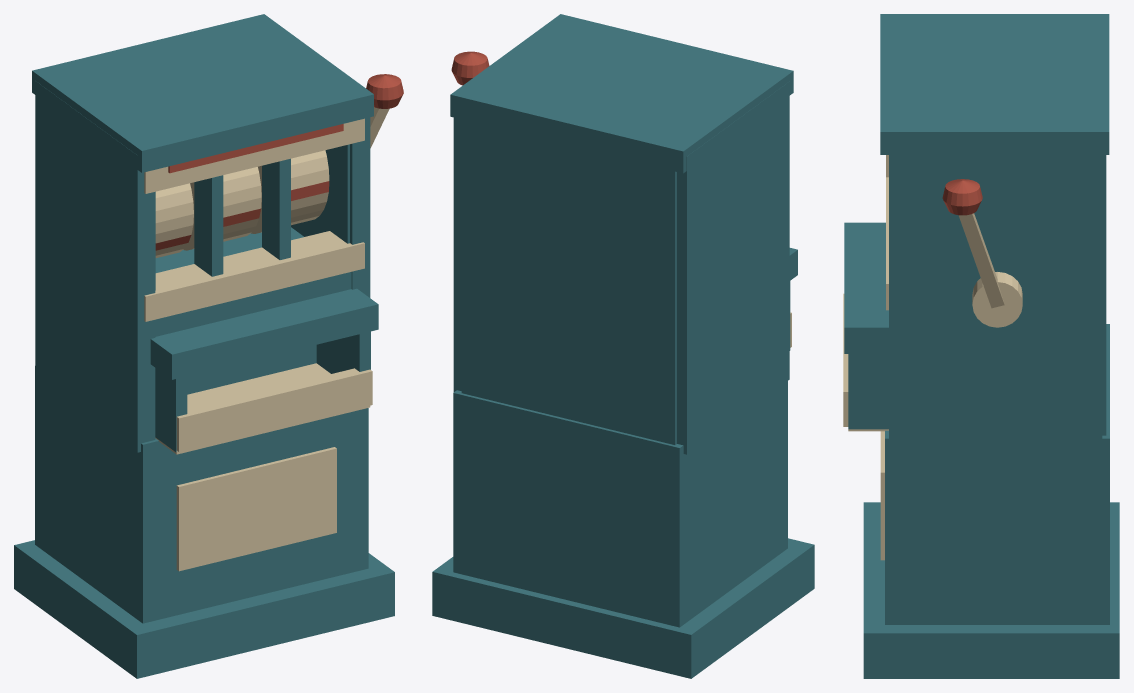
3 renders of one model, left to right at view 1: azimuth 30°, elevation 25°; view 2: azimuth 150°, elevation 25°; view 3: azimuth 270°, elevation 25°, orthographic. The views are drawn at different scales.
Visible parts, largest first — view 1: WholeLowerCabinetPedestal, WholeUpperCaseSide_-0.333, WholeUpperCaseRoof, WholeGroundFootPlinth, WholeBlankLowerInset, WholeReceivingPocketUpperHood, WholeWindowLowerBrow, WholeReceivingPocketFrontLip, WholeReelBayFloor, WholeWindowTopBrow, WholeUpperCaseSide_0.333, WholeWindowDivider_-0.105 (+11 smaller); view 2: WholeLowerCabinetPedestal, WholeUpperCaseBack, WholeUpperCaseSide_-0.333, WholeUpperCaseRoof, WholeGroundFootPlinth, WholeUpperCaseSide_0.333, WholeLeverKnob; view 3: WholeUpperCaseSide_0.333, WholeLowerCabinetPedestal, WholeUpperCaseRoof, WholeGroundFootPlinth, WholeReceivingPocketUpperHood, WholeReceivingPocketSide_0.285, WholeLeverRootHub, WholeFixedLeverStem, WholeUpperCaseBack, WholeLeverKnob, WholeBlankLowerInset, WholeReceivingPocketFrontLip.
Boxes of the visible parts, left/top/right/bottom form: WholeLowerCabinetPedestal: left=35, top=366, right=368, bottom=623; WholeUpperCaseSide_-0.333: left=35, top=81, right=155, bottom=452; WholeUpperCaseRoof: left=32, top=14, right=373, bottom=172; WholeGroundFootPlinth: left=14, top=540, right=394, bottom=678; WholeBlankLowerInset: left=176, top=447, right=336, bottom=571; WholeReceivingPocketUpperHood: left=150, top=288, right=378, bottom=379; WholeWindowLowerBrow: left=144, top=231, right=364, bottom=321; WholeReceivingPocketFrontLip: left=176, top=368, right=372, bottom=451; WholeReelBayFloor: left=155, top=227, right=351, bottom=336; WholeWindowTopBrow: left=144, top=118, right=364, bottom=193; WholeUpperCaseSide_0.333: left=291, top=117, right=370, bottom=297; WholeWindowDivider_-0.105: left=194, top=175, right=223, bottom=276; WholeLowerCabinetPedestal: left=453, top=381, right=787, bottom=627; WholeUpperCaseBack: left=461, top=119, right=676, bottom=444; WholeUpperCaseSide_-0.333: left=677, top=81, right=789, bottom=454; WholeUpperCaseRoof: left=450, top=14, right=793, bottom=173; WholeGroundFootPlinth: left=432, top=538, right=814, bottom=678; WholeUpperCaseSide_0.333: left=453, top=117, right=461, bottom=391; WholeLeverKnob: left=451, top=51, right=489, bottom=85; WholeUpperCaseSide_0.333: left=889, top=140, right=1102, bottom=449; WholeLowerCabinetPedestal: left=885, top=324, right=1109, bottom=624; WholeUpperCaseRoof: left=880, top=14, right=1109, bottom=154; WholeGroundFootPlinth: left=863, top=502, right=1119, bottom=678; WholeReceivingPocketUpperHood: left=844, top=222, right=888, bottom=353; WholeReceivingPocketSide_0.285: left=848, top=354, right=888, bottom=429; WholeLeverRootHub: left=972, top=272, right=1022, bottom=327; WholeFixedLeverStem: left=958, top=213, right=1004, bottom=308; WholeUpperCaseBack: left=1102, top=155, right=1106, bottom=435; WholeLeverKnob: left=942, top=179, right=982, bottom=215; WholeBlankLowerInset: left=880, top=431, right=884, bottom=560; WholeReceivingPocketFrontLip: left=843, top=293, right=848, bottom=426.
Bounding box in the file's own units: 0.967 × 1.54 × 0.713.
